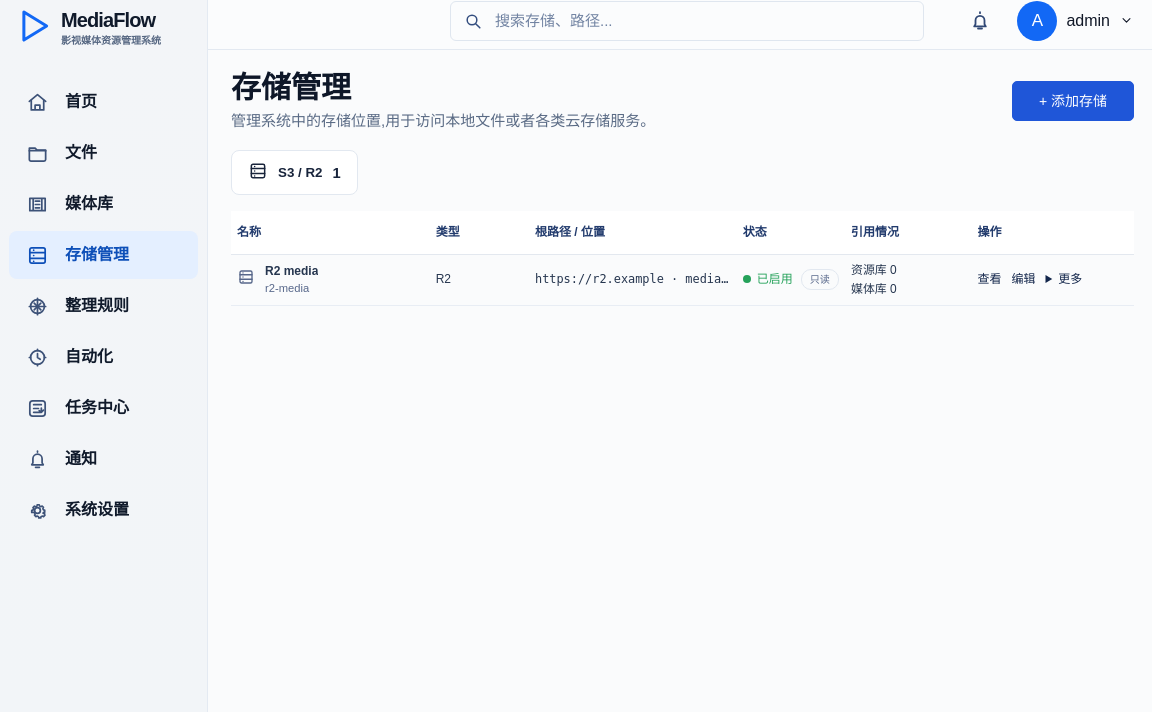
Scenario: Storage lifecycle actions › shows the failing dependency and durable states for copy admission
This screenshot has width=1152, height=712.
Click the heading named "更多操作 R2 media" at {"x": 1070, "y": 279}, box [1058, 272, 1082, 286]
(page scrolled)
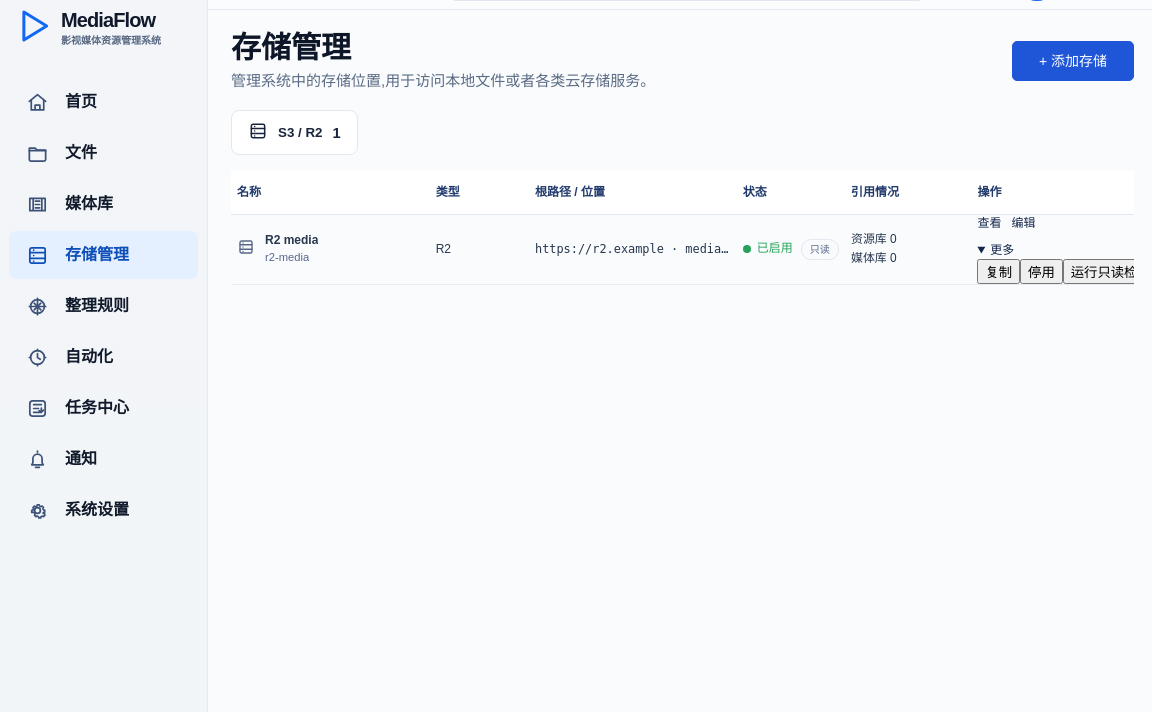
Click the menu item "复制" at {"x": 999, "y": 271}, box [977, 258, 1020, 284]
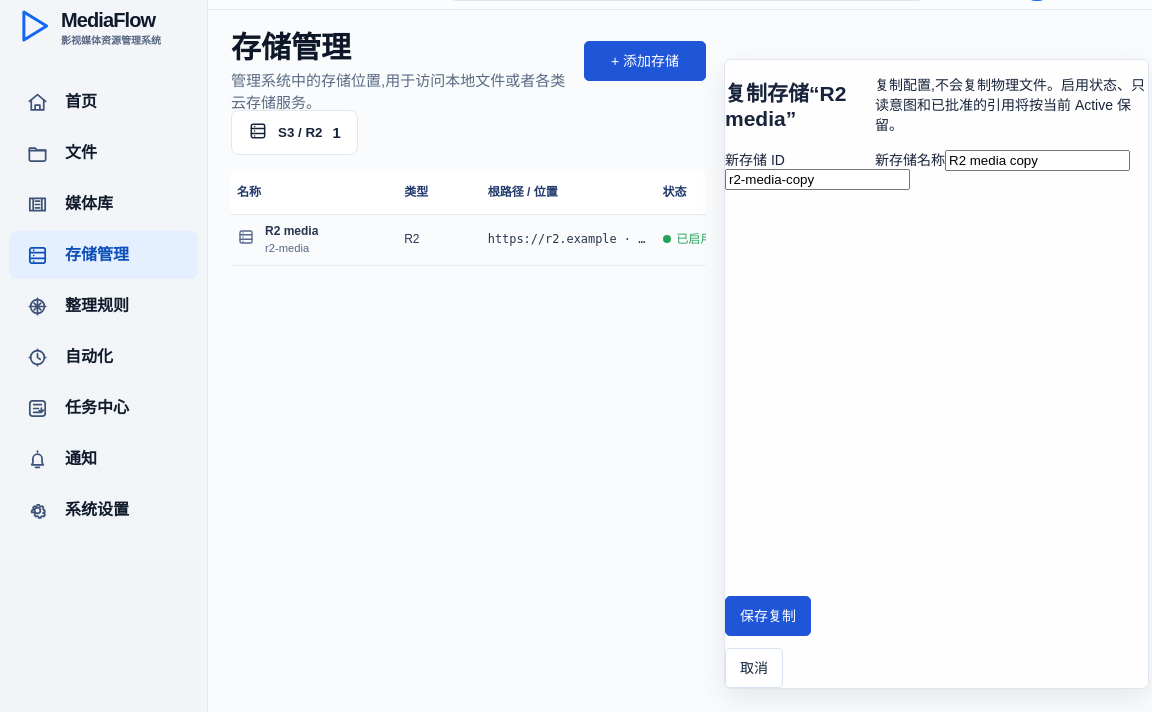
Click the button "保存复制" at {"x": 768, "y": 616}, box [725, 596, 811, 636]
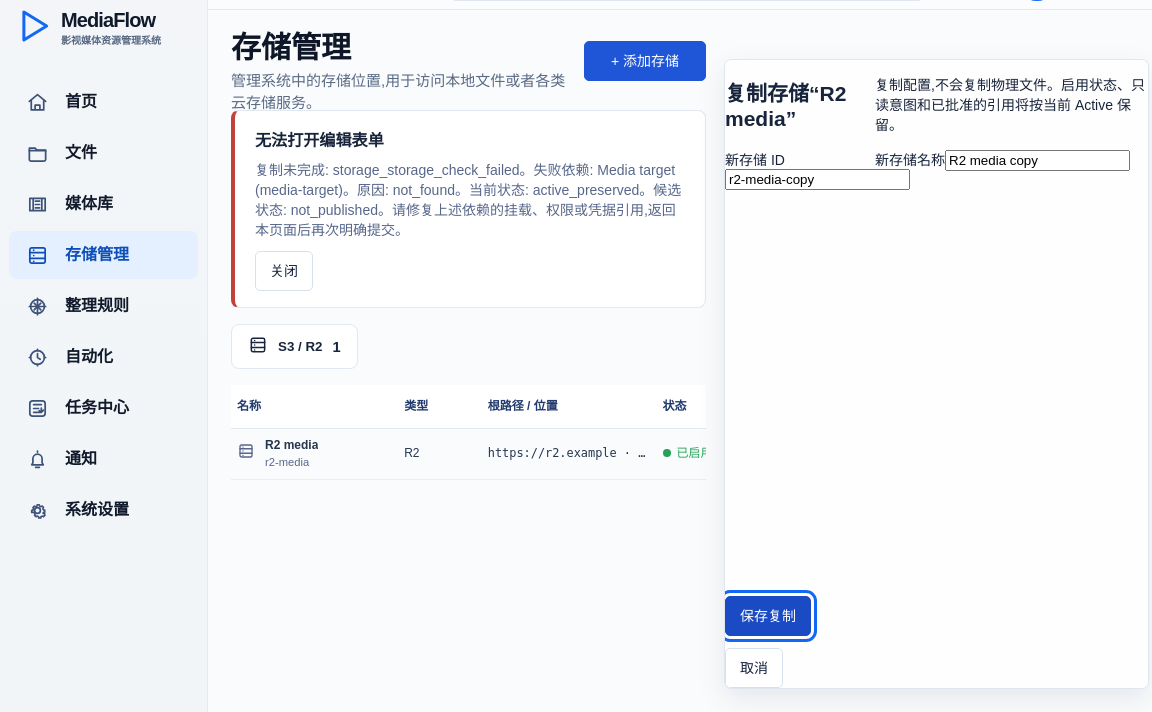
Expected: the text "请修复上述依赖的挂载、权限或凭据引用" is shown, [255, 162, 681, 238]
